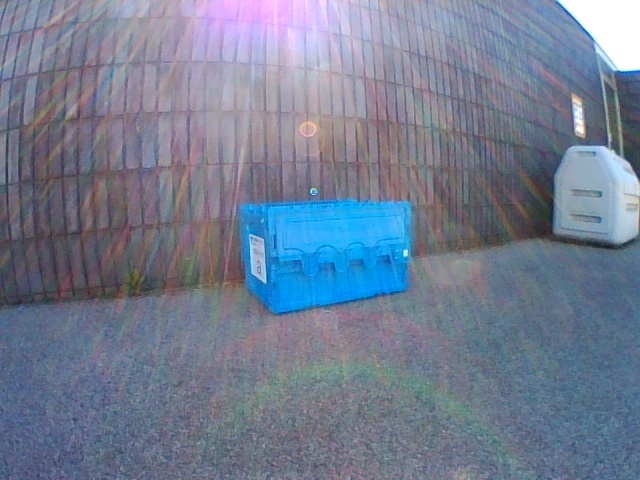blue_box: (241, 200, 410, 314)
tag_a: (252, 241, 264, 276)
